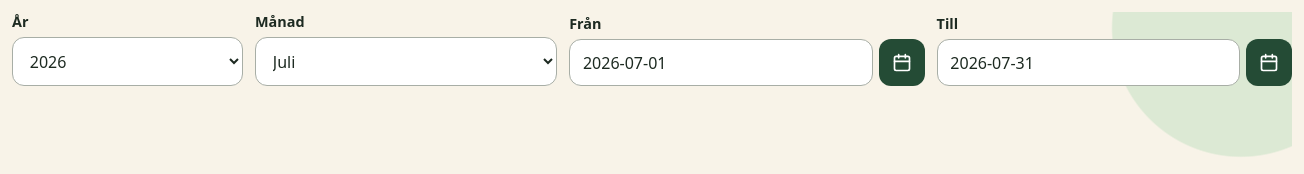
Test: dashboardens periodfilter › återgår till valfri period när ett datum ändras manuellt
Replace the text in the field labelled "Till" with "2026-07-15" at (1088, 63), box [937,39,1240,86]
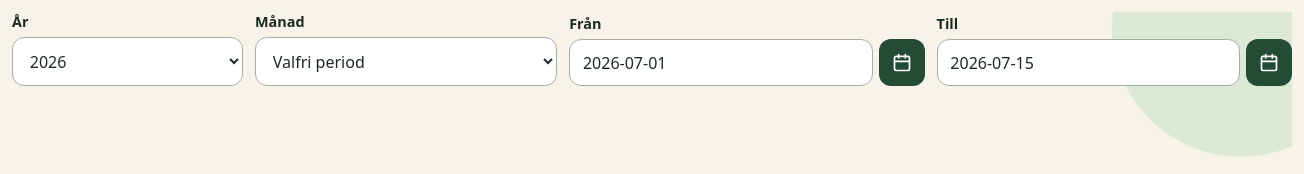
Expected: the dropdown labelled "Månad" shows "Valfri period", [255,37,557,86]
